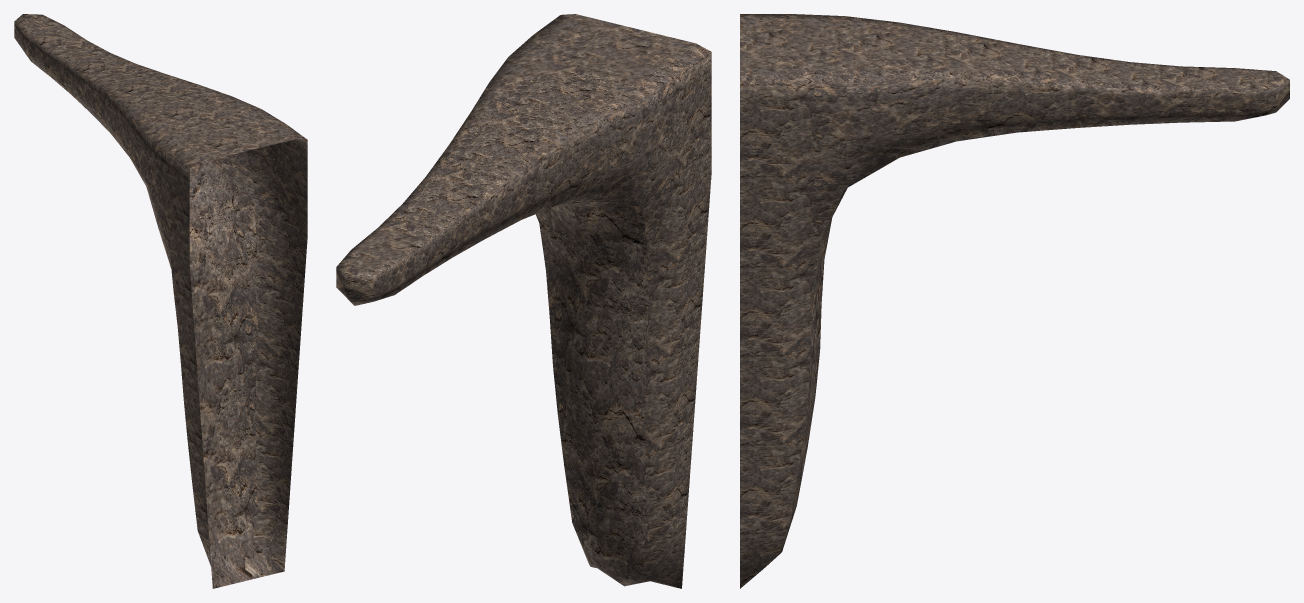
Rendered from DANHON.fbx.
The picture shows the model from 3 angles, left to right: view 1: azimuth 30°, elevation 25°; view 2: azimuth 150°, elevation 25°; view 3: azimuth 270°, elevation 25°; orthographic projection. The views are drawn at different scales.
Visible parts, largest first — view 1: Da; view 2: Da; view 3: Da.
Boxes of the visible parts, x1,y1,x2,y2 form: Da: (14, 14, 307, 588); Da: (336, 14, 711, 588); Da: (740, 14, 1289, 588).
Bounding box in the file's own units: 11.08 × 38.51 × 36.71.
Materials: 1 (1 with a texture image).
